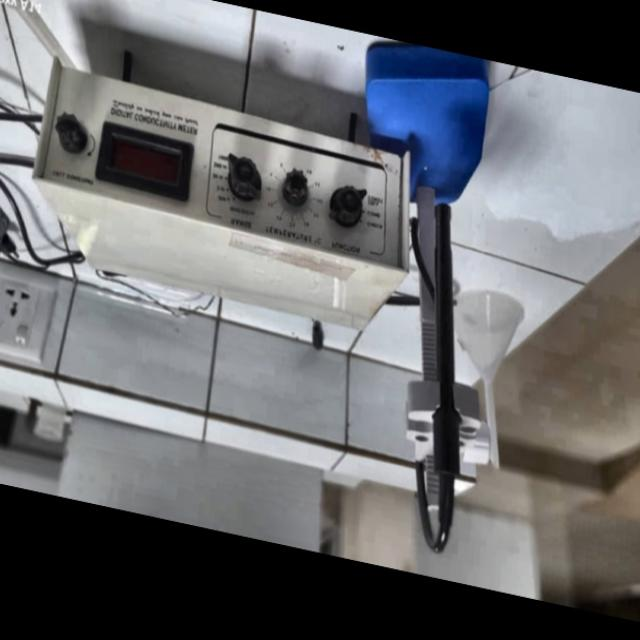Conductivity Meter: (26, 51, 500, 333)
